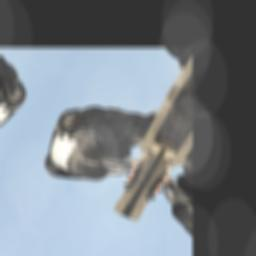Crow: (28, 73, 173, 208)
